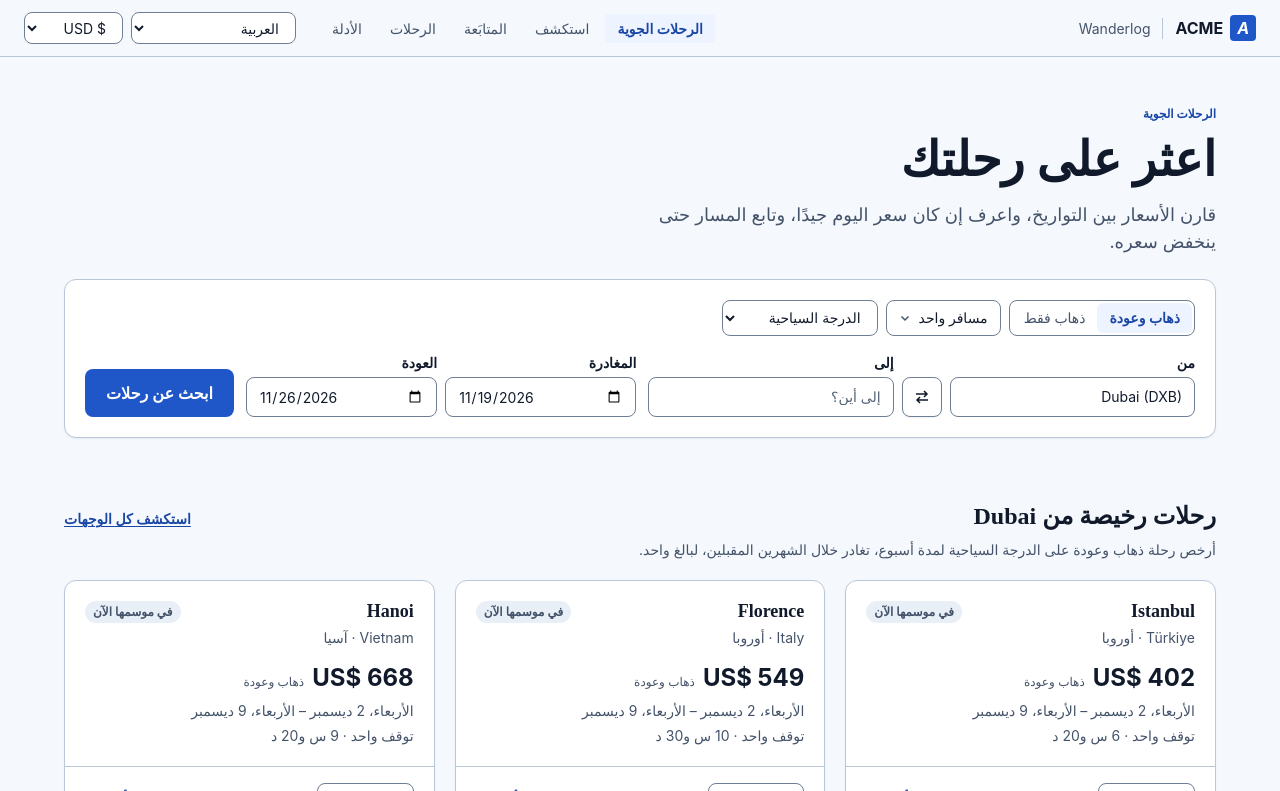
Test: Languages › mirrors the layout in Arabic
The width and height of the screenshot is (1280, 791).
Expected: the heading "اعثر على رحلتك" is shown, [901,133,1216,186]
// Popovers anchor to their trigger's start edge, which is its right edge here.
Click the button "مسافر واحد". click: [944, 318]
box: [886,300,1001,336]
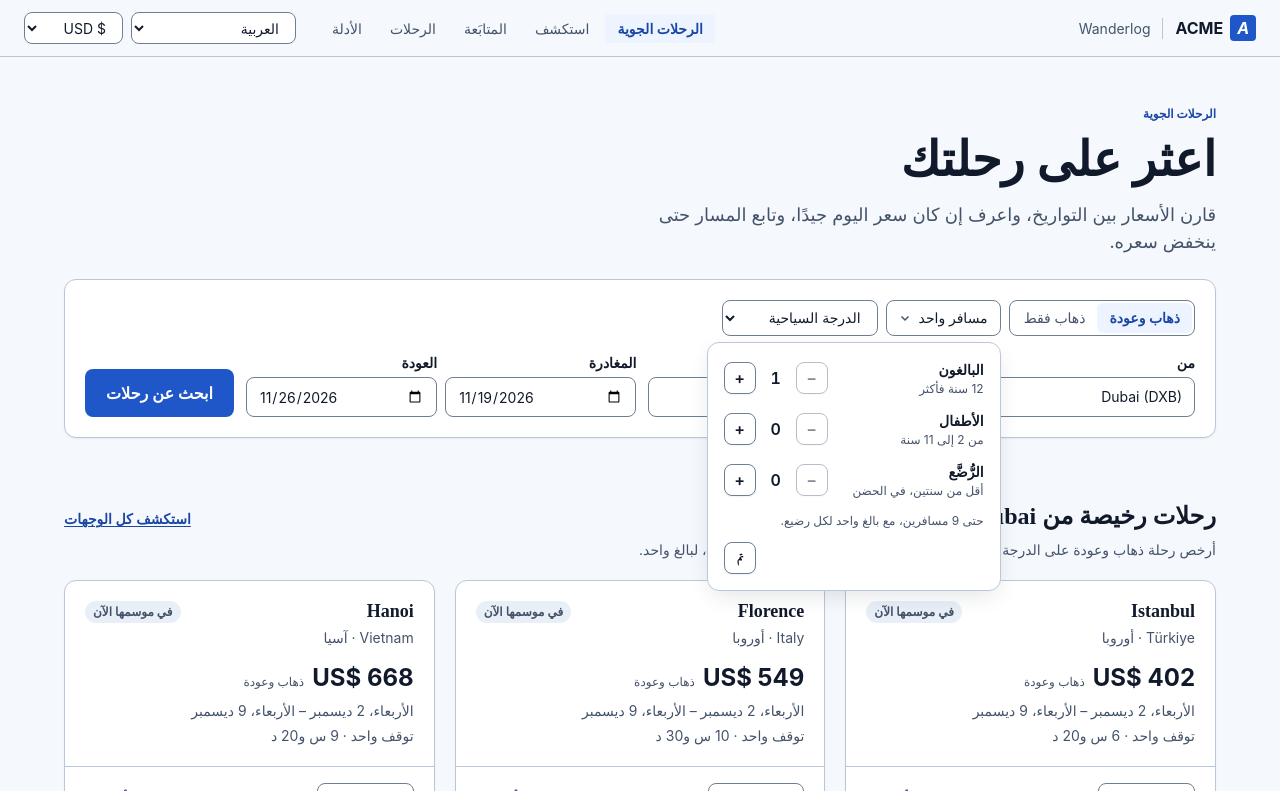
Expected: the dialog is shown, [707,342,1001,591]
